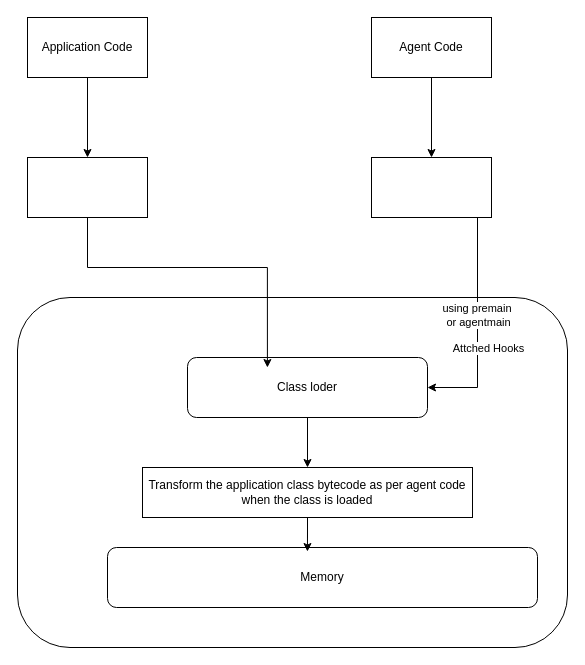
Image size: 585x665. Some labels were removed from this diagram. The centre of each missing label's shape, as x and y in pixels:
"Agent ByteCode" goes at point (431, 187).
"Application bytecode" goes at point (87, 187).
